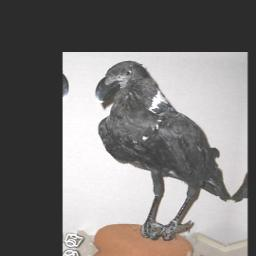Crow: (75, 57, 245, 247)
